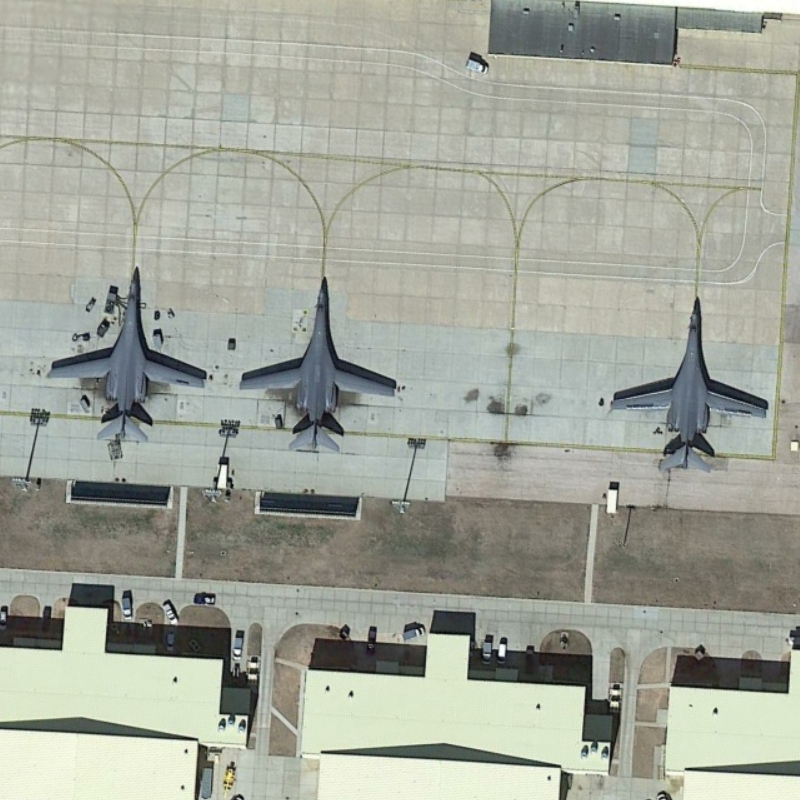A10: (597, 290, 784, 478), (44, 261, 214, 451), (237, 272, 405, 461)
